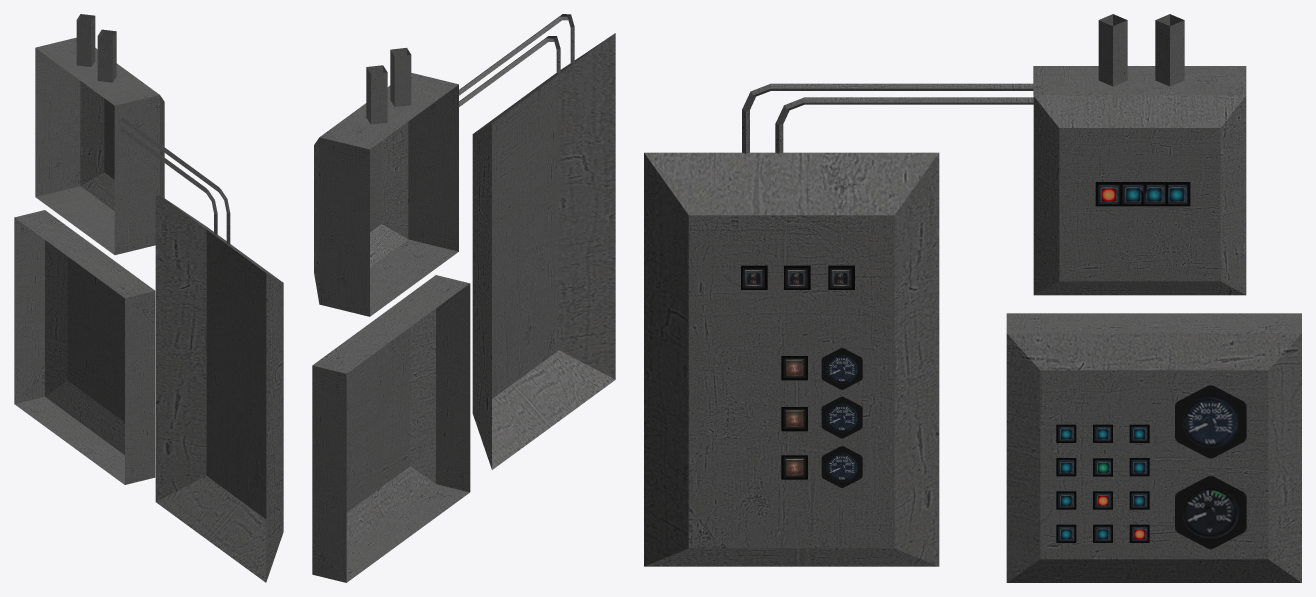
The model's file is p6_cic_mech_panel_b_white_lod2.glb.
3 views of the same model, side by side, from view 1: azimuth 30°, elevation 25°; view 2: azimuth 150°, elevation 25°; view 3: azimuth 270°, elevation 25° (orthographic). The views are drawn at different scales.
Visible parts, largest first — view 1: surf1; view 2: surf1; view 3: surf1, surf0.
Boxes of the visible parts, x1,y1,x2,y2 form: surf1: (14, 14, 283, 582); surf1: (312, 14, 615, 582); surf1: (644, 14, 1301, 582); surf0: (741, 182, 1190, 542).
Bounding box in the file's own units: 10.77 × 71.79 × 76.81.
